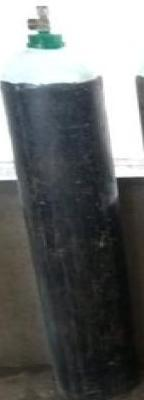cylinder: (1, 1, 144, 400)
